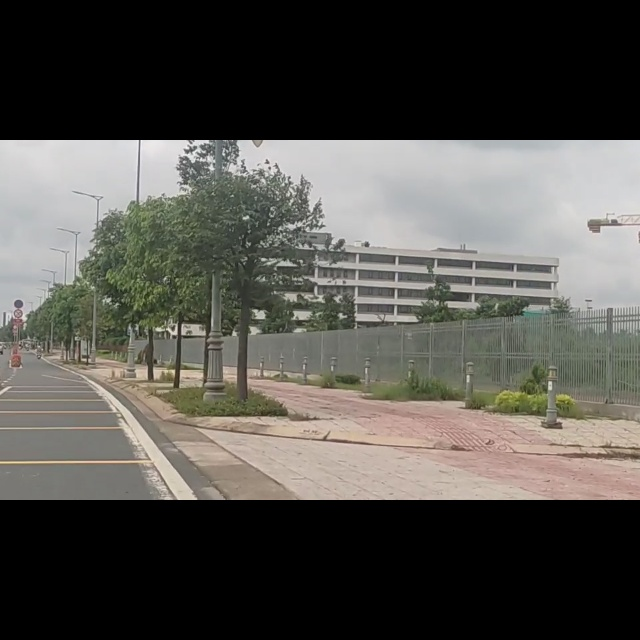bien_cam: (13, 299, 23, 318), (13, 283, 23, 300)
